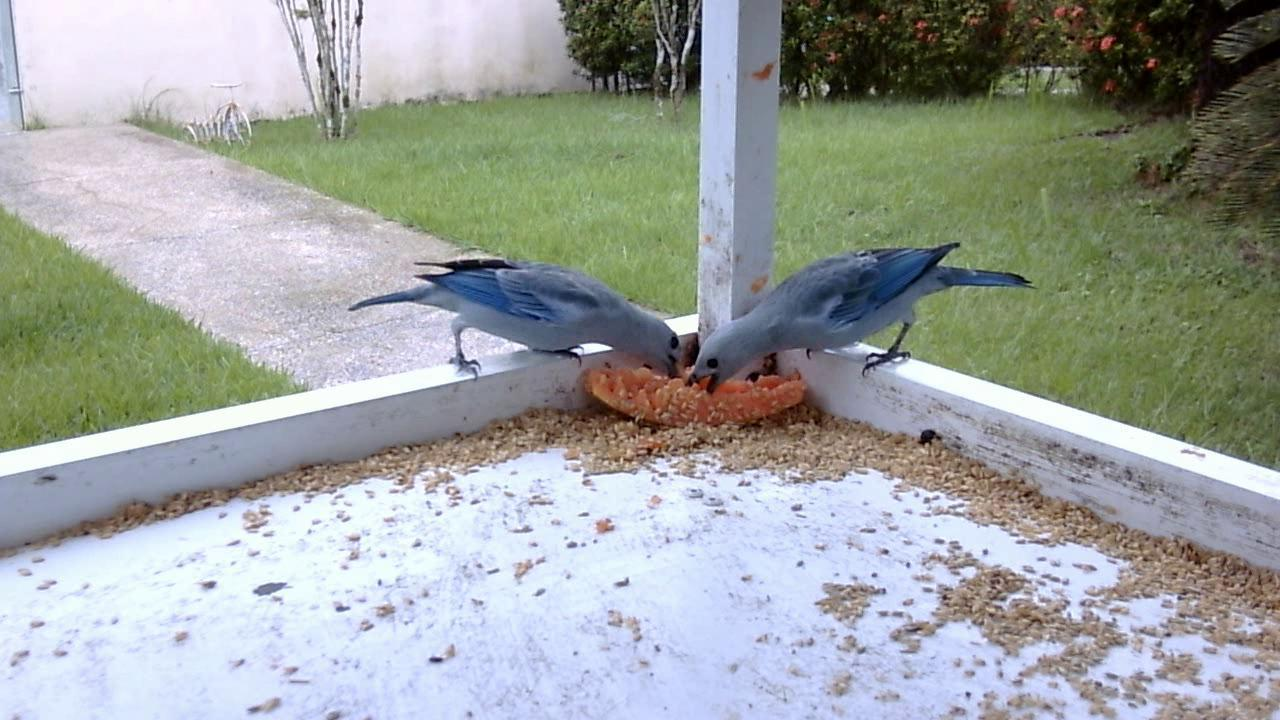sanhaco_da_amazonia: (687, 236, 1030, 390), (342, 241, 679, 389)
